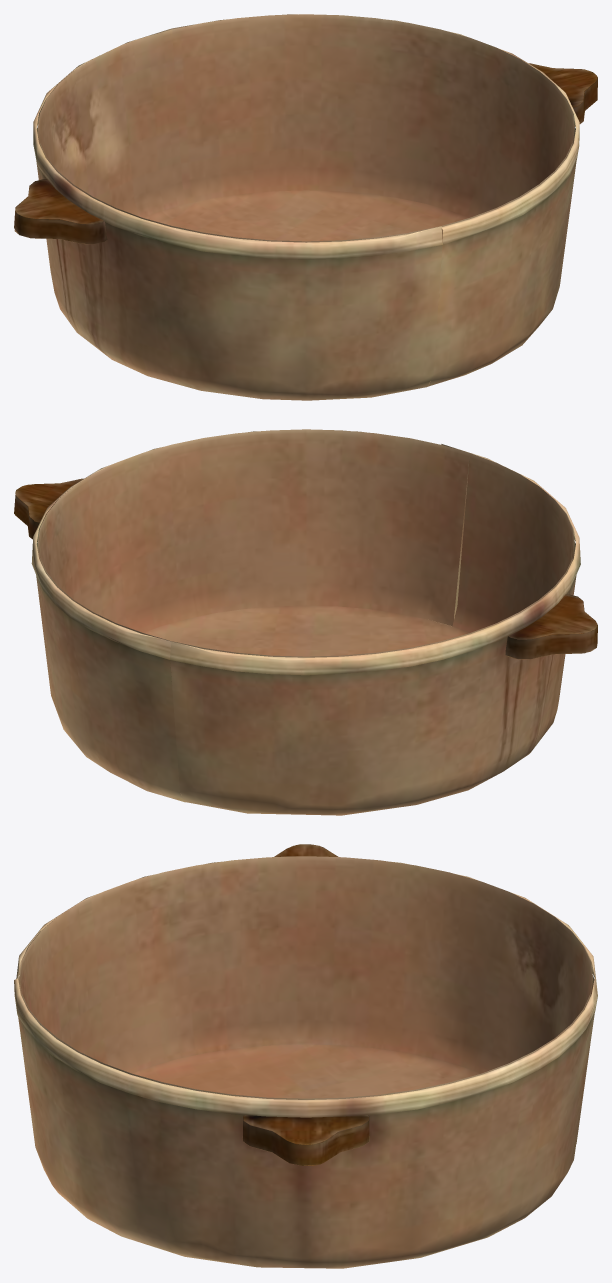
File: brass_pot_low.glb
3 renders of one model, top to bottom at view 1: azimuth 30°, elevation 25°; view 2: azimuth 150°, elevation 25°; view 3: azimuth 270°, elevation 25°, orthographic. The views are drawn at different scales.
Visible parts, largest first — view 1: brass_pot_02; view 2: brass_pot_02; view 3: brass_pot_02.
Boxes of the visible parts, left/top/right/bottom form: brass_pot_02: left=14, top=14, right=597, bottom=400; brass_pot_02: left=14, top=429, right=597, bottom=815; brass_pot_02: left=14, top=844, right=597, bottom=1268.
Size of the model in its own units: 0.3667 by 0.1091 by 0.3006.
Materials: 1 (1 with a texture image).
